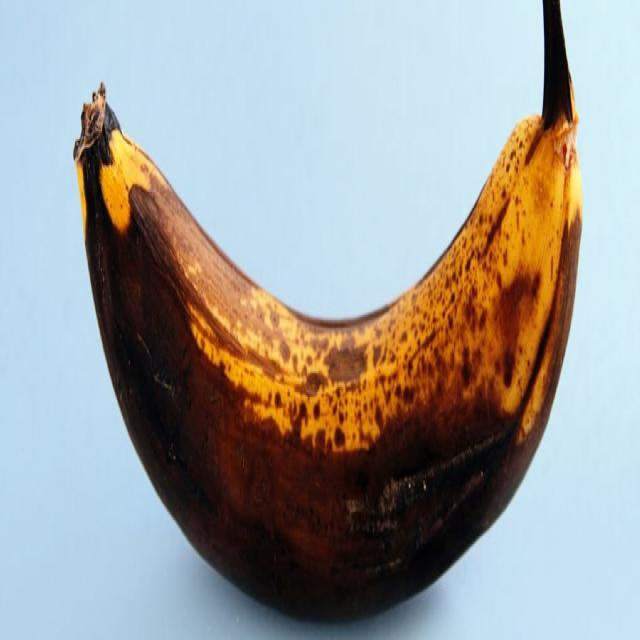Banana: (78, 61, 594, 628)
